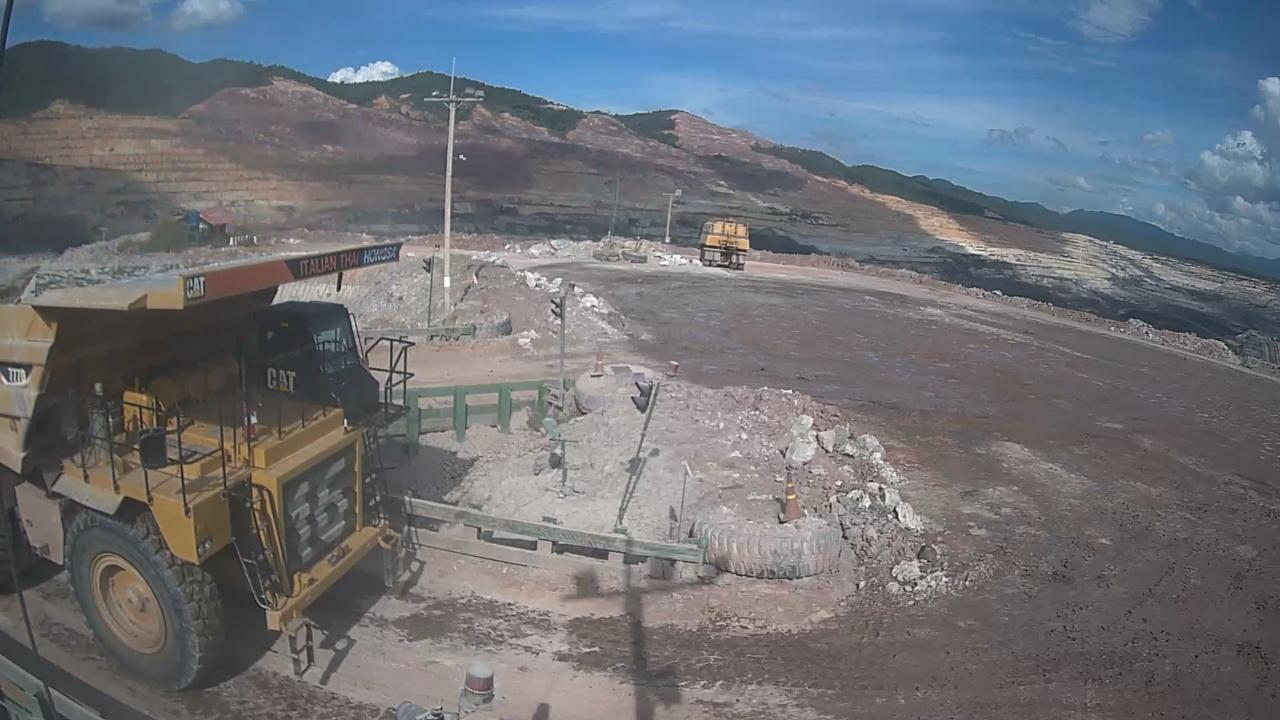front_number: (279, 444, 362, 561)
mining_truck: (0, 225, 426, 696)
truck_size: (2, 361, 38, 390)
